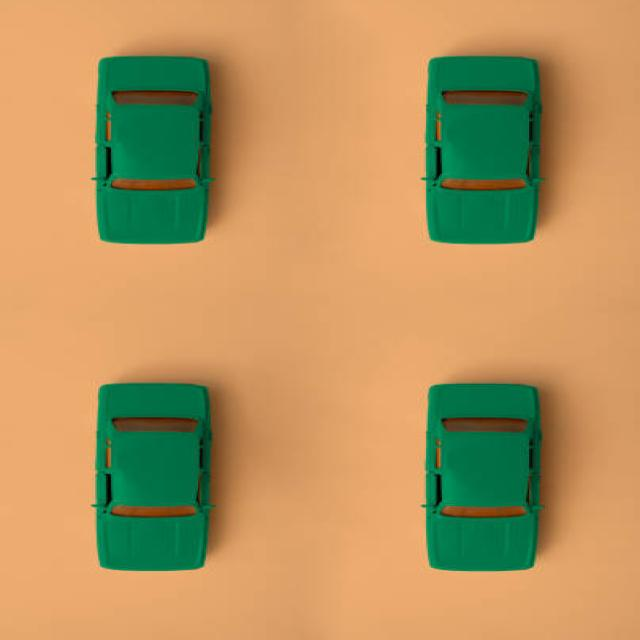Car: (90, 383, 216, 573), (90, 56, 214, 246), (422, 56, 544, 246), (422, 384, 544, 573)
